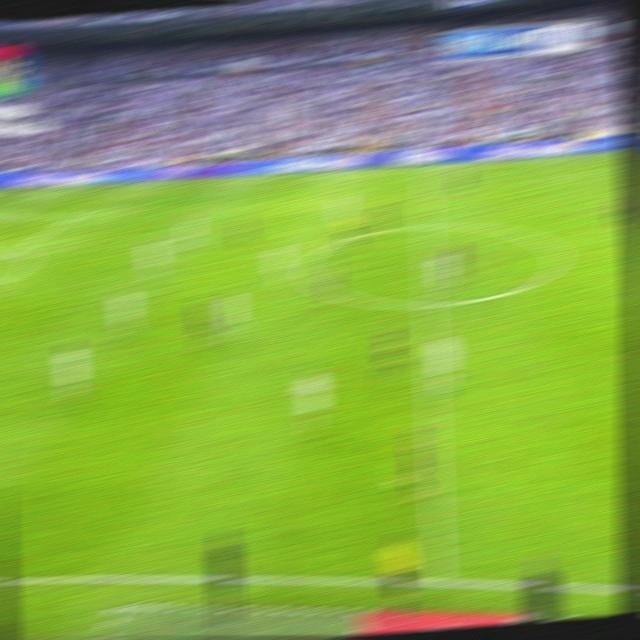halfcircle_bottom: (416, 290, 441, 315)
halfcircle_top: (417, 215, 437, 233)
midline_bottom_intersection: (423, 564, 452, 587)
midline_top_intersection: (416, 162, 434, 174)
top_arc_area_intersection: (8, 242, 27, 254)
